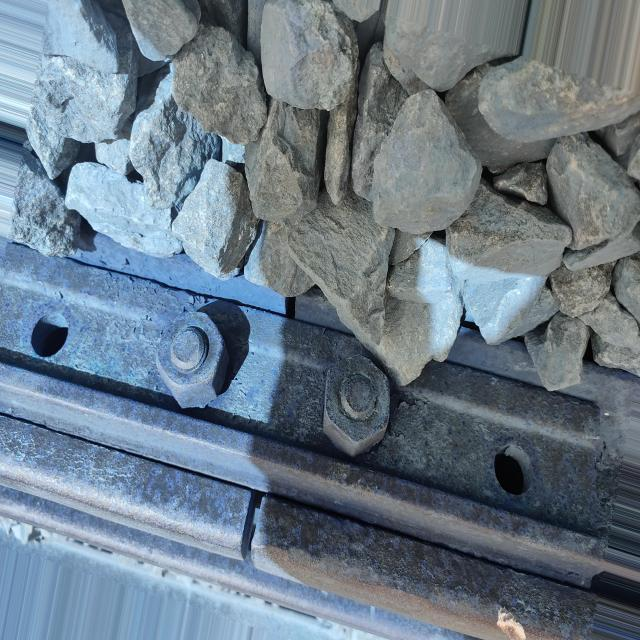Defective Joint: (0, 250, 608, 586)
